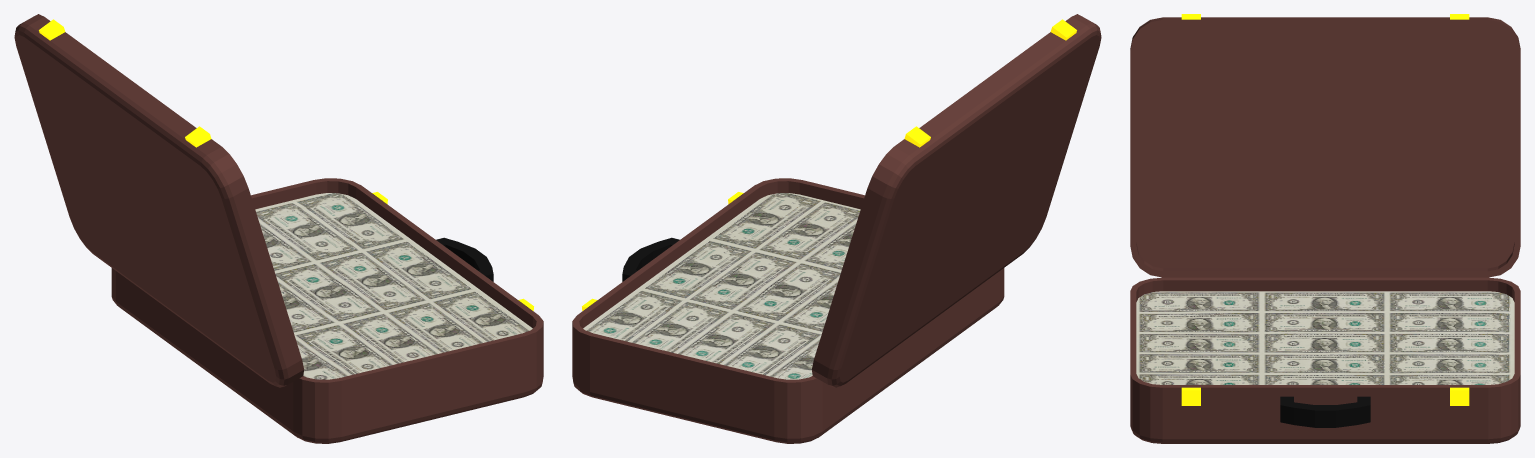
File: suitcase.fbx
The picture shows the model from 3 angles, left to right: view 1: azimuth 30°, elevation 25°; view 2: azimuth 150°, elevation 25°; view 3: azimuth 270°, elevation 25°; orthographic projection. The views are drawn at different scales.
Visible parts, largest first — view 1: suitcase; view 2: suitcase; view 3: suitcase.
Boxes of the visible parts, left/top/right/bottom form: suitcase: left=14, top=14, right=543, bottom=443; suitcase: left=572, top=14, right=1101, bottom=443; suitcase: left=1130, top=14, right=1520, bottom=443.
Size of the model in its own units: 60 by 49.15 by 60.
Materials: 4 (1 with a texture image).
